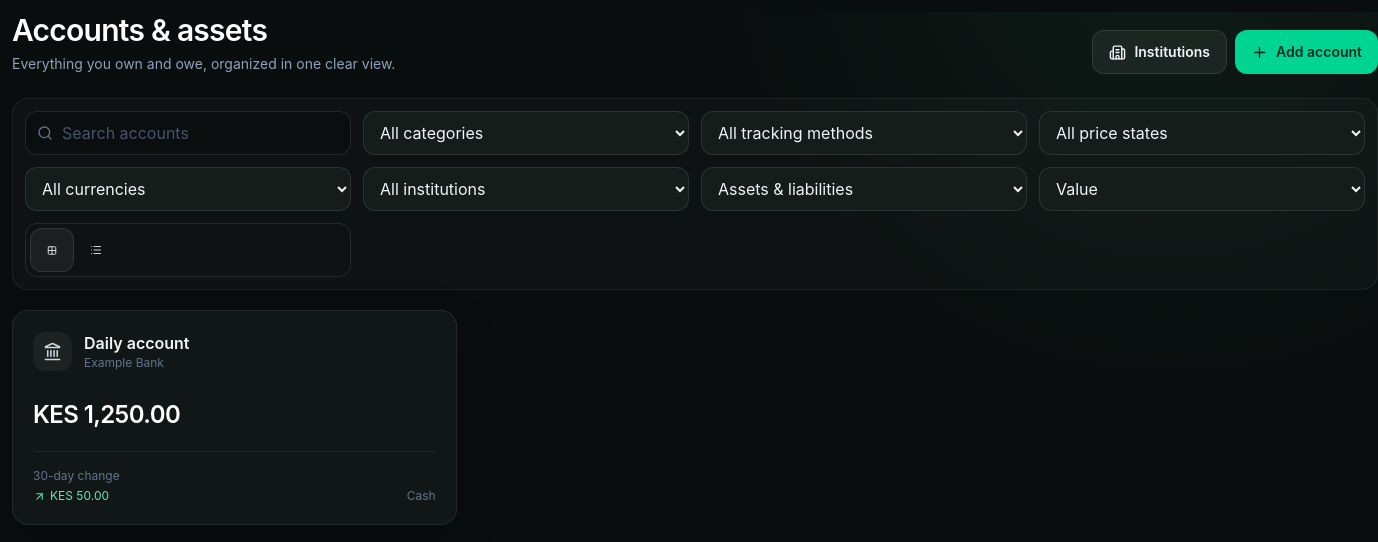
it: ported core pages › preserves account filters and both source views
Expected: the heading "Accounts & assets" is shown, [12,12,267,48]
Expected: the field labelled "Search accounts" is shown, [25,111,351,155]
Click the button named "Table view": (96, 250) [74,228,118,272]
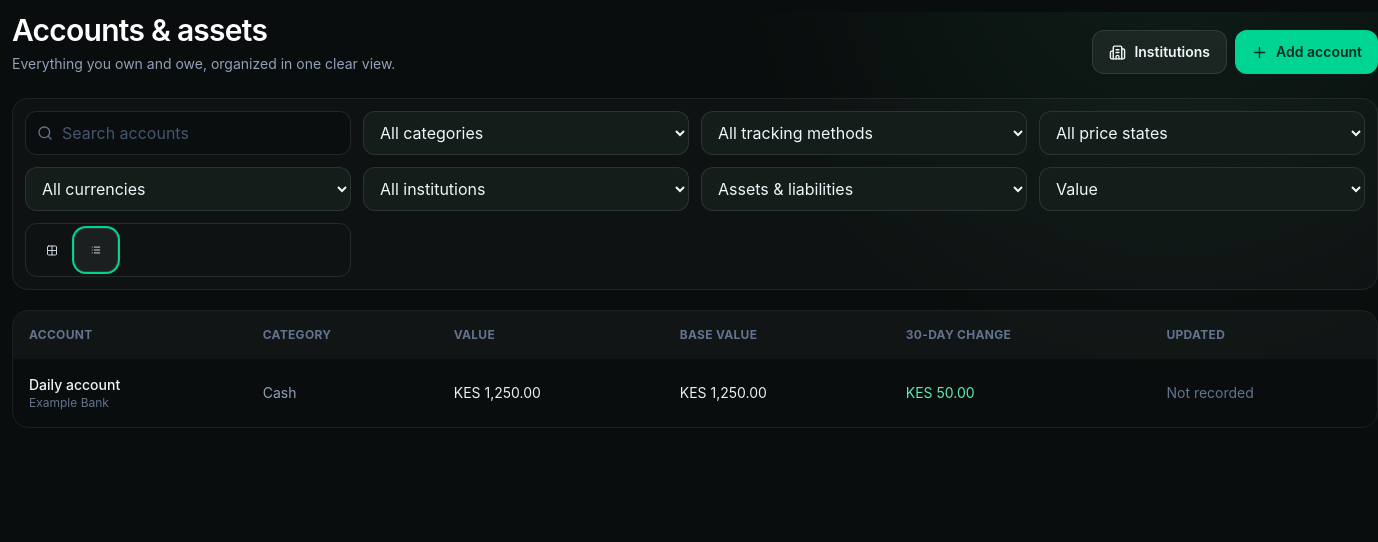
Expected: the column heading "30-day change" is shown, [890,311,1150,359]
Result: the row "Daily account" shows "KES 50.00" at [906,384,975,401]
